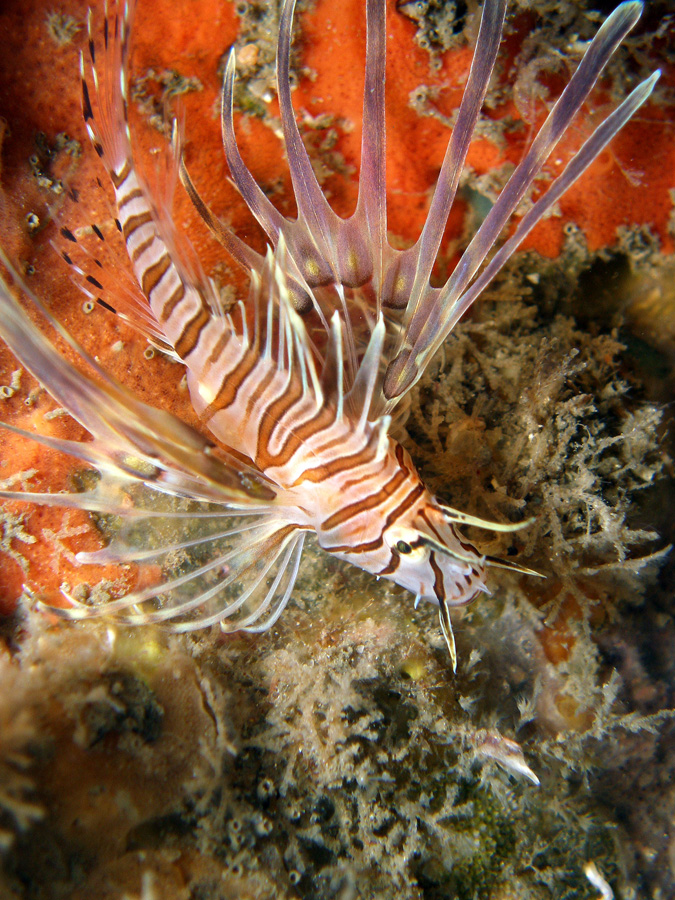Pterois_volitans: (30, 67, 558, 617)
